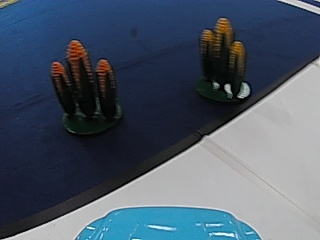corn: (50, 41, 123, 137), (195, 15, 249, 102)
